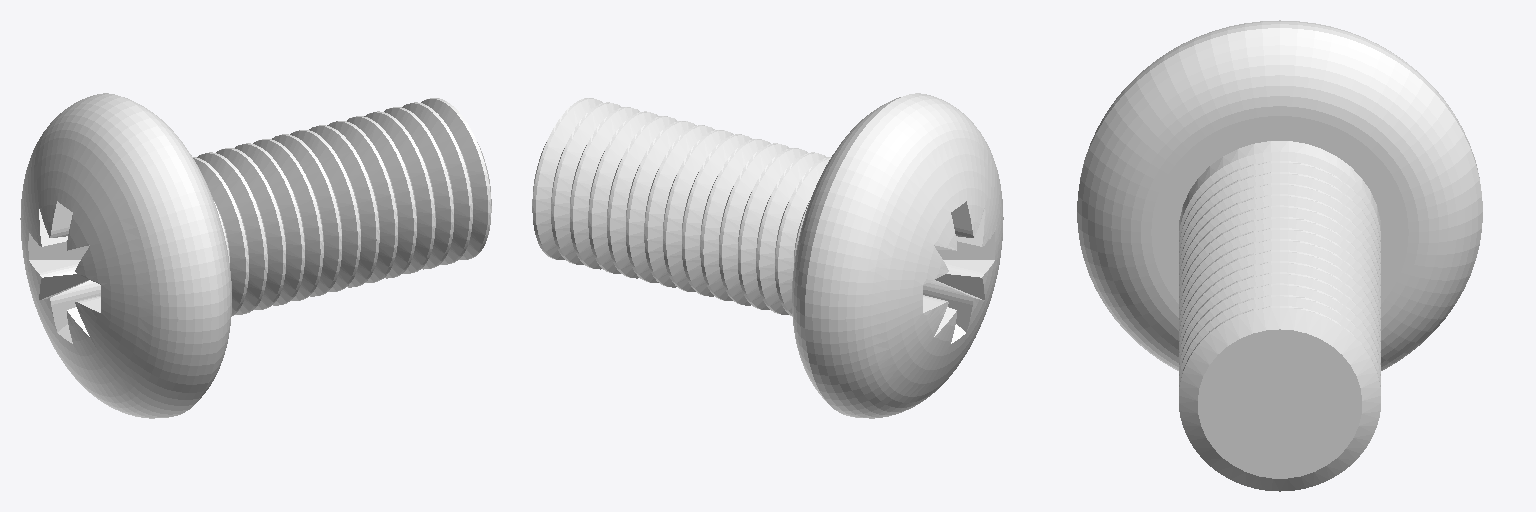
The robot description file, URDF, robot "m24screw.urdf":
<?xml version="1.0" ?>
<robot name="m24screw.urdf">
  <link name="baseLink">
    <contact>
    	<friction_anchor/>
    	   <lateral_friction value="0.5"/>
        <rolling_friction value="0.005"/>
        <spinning_friction value="0.005"/>
    </contact>
    <inertial>
      <origin rpy="0 0 0" xyz="2.13E-3 0 0"/>
       <mass value="1"/>
       <inertia ixx="2.2E-7" ixy="0" ixz="0" iyy="5.6E-7" iyz="0" izz="5.6E-7"/>
    </inertial>
    <visual>
      <origin rpy="0 0 0" xyz="0 0 0"/>
      <geometry>
				<mesh filename="m2_4_screw.obj" scale=".01 .01 .01"/>
      </geometry>
       <material name="white">
        <color rgba="1 1 1 1"/>
      </material>
    </visual>
    <collision>
      <origin rpy="0 0 0" xyz="0 0 0"/>
      <geometry>
	 	<box size=".01 .01 .01"/>
      </geometry>
    </collision>
  </link>
</robot>

--- What the picture shows (computed from the rendered views, not written in the file) ---
3 views of the same robot in one strip: view 1: azimuth 30°, elevation 25°; view 2: azimuth 150°, elevation 25°; view 3: azimuth 270°, elevation 25° (orthographic).
Robot: m24screw.urdf — 1 links, 0 joints (none); root link baseLink; default pose: every joint at zero.
Links seen in each view (by area): view 1: baseLink; view 2: baseLink; view 3: baseLink.
Link boxes in pixels (x1,y1,x2,y2): baseLink: (20,93,491,418); baseLink: (532,93,1003,418); baseLink: (1077,20,1482,491).
Size in the robot's own frame: 0.0557 by 0.04 by 0.04 metres.
1 mesh visuals loaded from 1 distinct referenced files (1 OBJ).